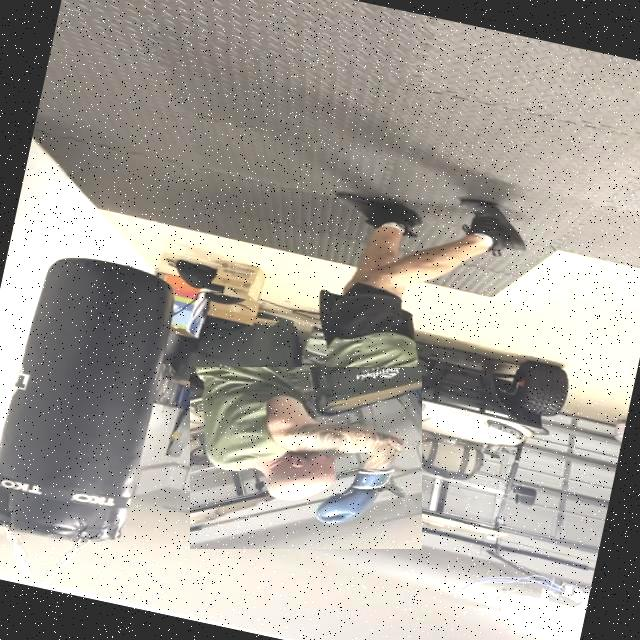punch: (190, 367, 422, 549)
